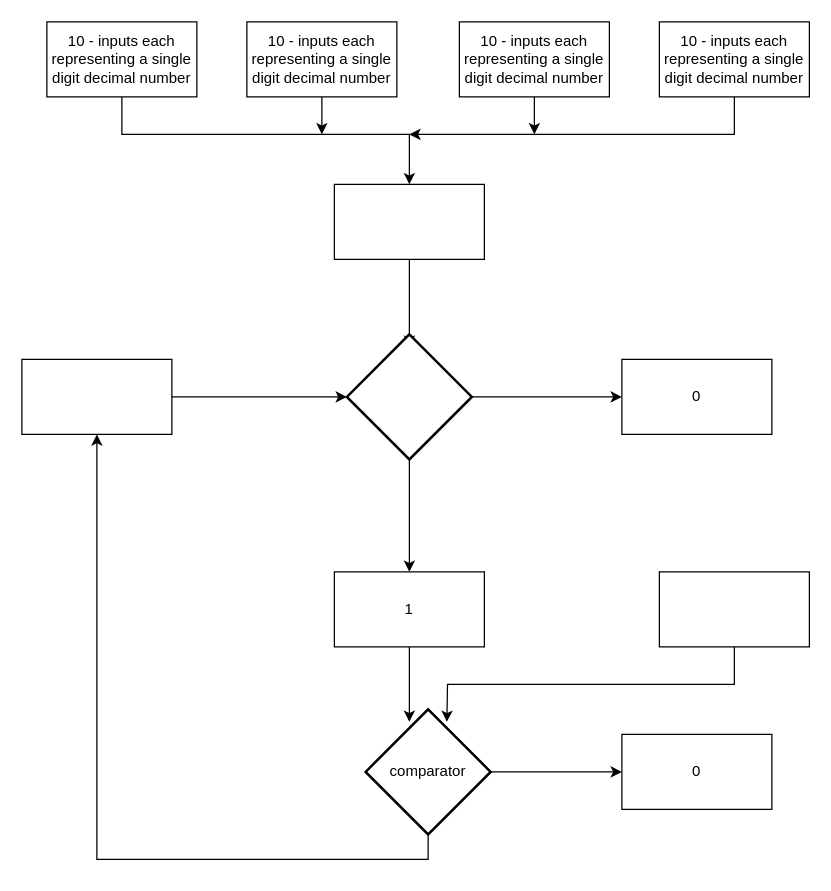
Some shapes in this 831 by 891 pixel diagram are drawn without their labels. The centre of each missing label's shape, as x and y in pixels:
"Comparator." goes at point 408,396.
"Correct password. (default 0000)" goes at point 96,396.
"Decimal to BCD convertor." goes at point 408,221.
"Reset password button" goes at point 733,609.
